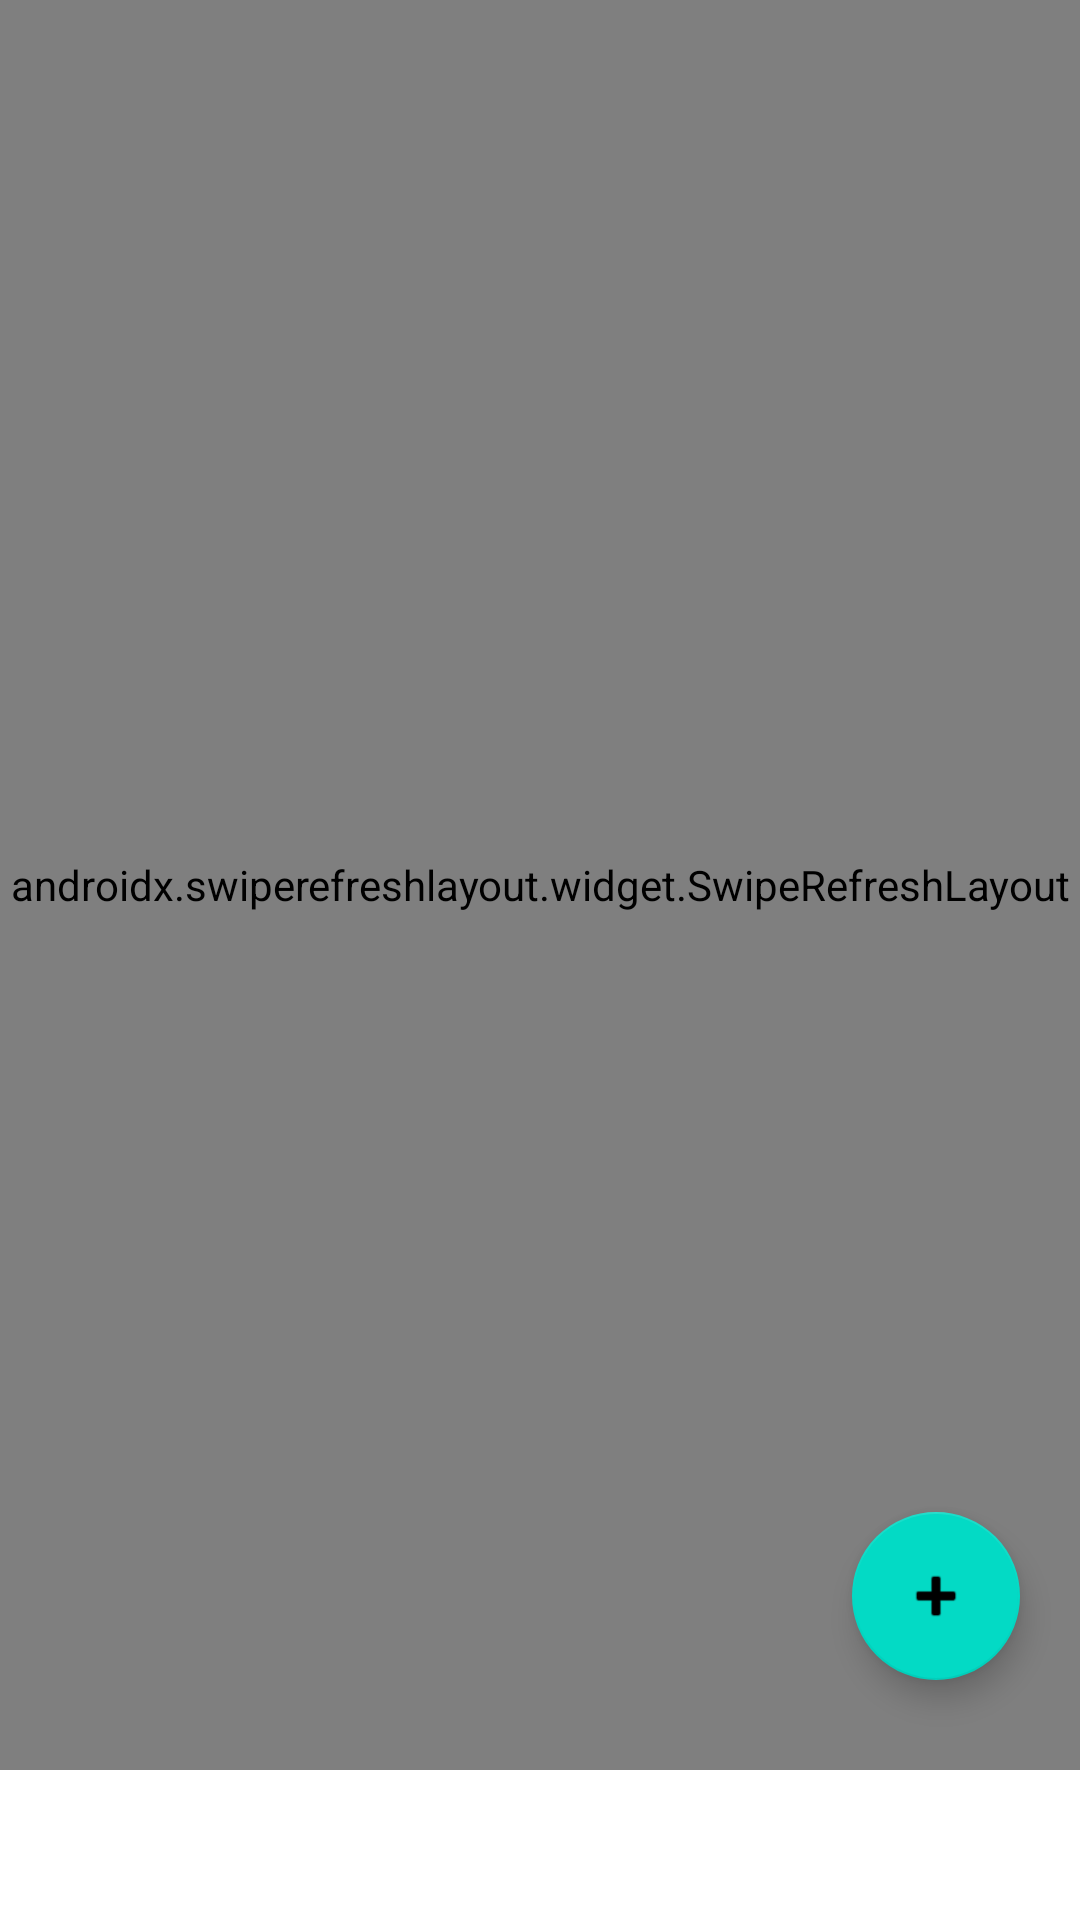

Locate icon controls on the screen. Image size 1080px x 1920px, boxes as bbox=(x1, y1, x2, y2).
add: bbox=(852, 1512, 1020, 1680)
